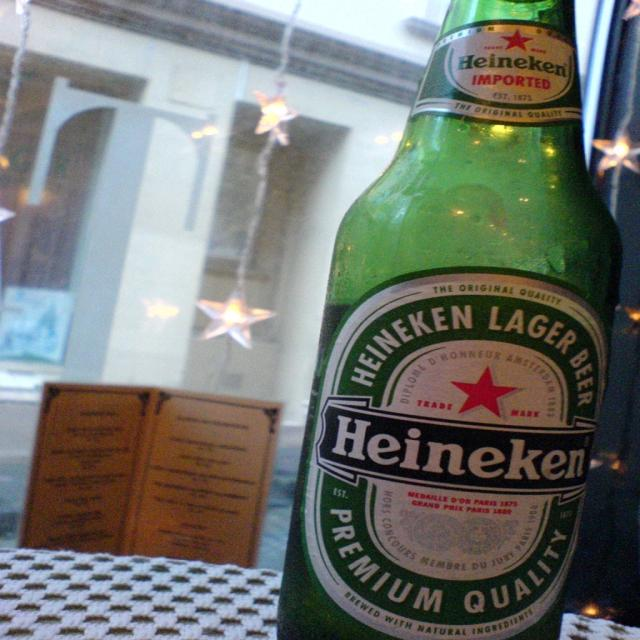heineken: (304, 269, 612, 640)
